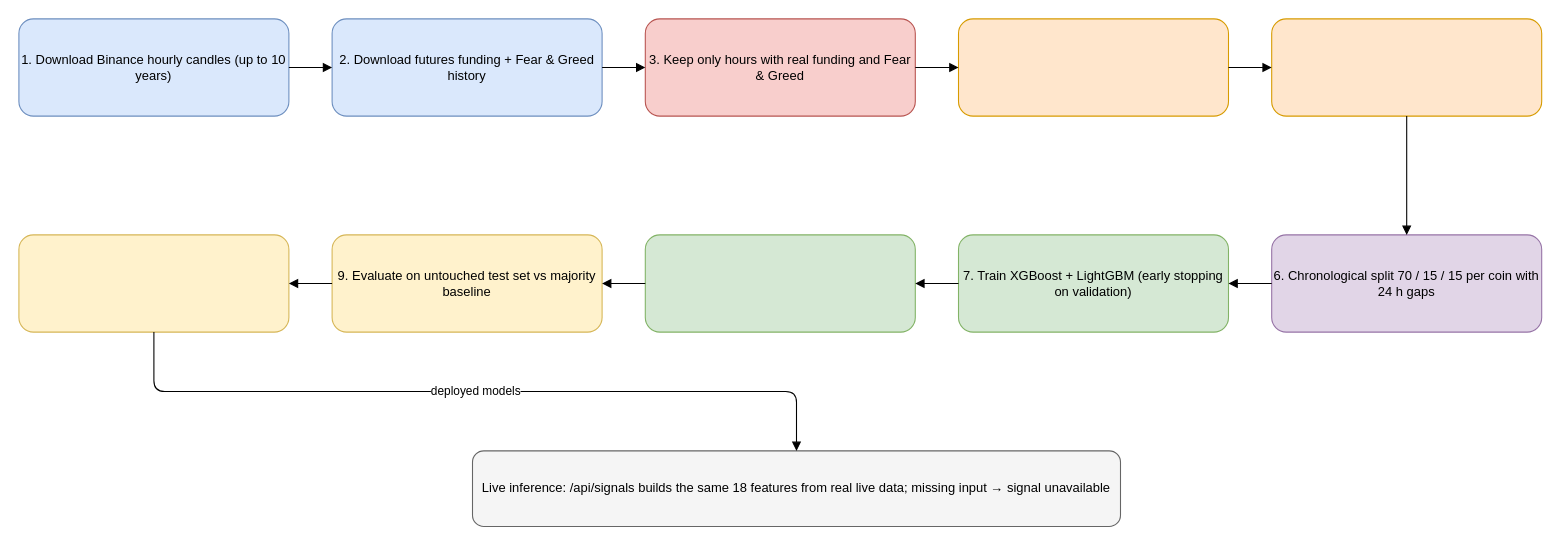
Some shapes in this 1561 by 545 pixel diagram are drawn without their labels. The centre of each missing label's shape, as x and y in pixels:
"10. Save models + metrics.json (model-info endpoint)" belongs at (x=153, y=283).
"4. Feature engineering: 18 features (technical, order flow, context)" belongs at (x=1092, y=67).
"5. Label: price 24 h later vs ±2.5% (bearish / neutral / bullish)" belongs at (x=1406, y=67).
"8. Ensemble weights = validation macro-F1" belongs at (x=779, y=283).
